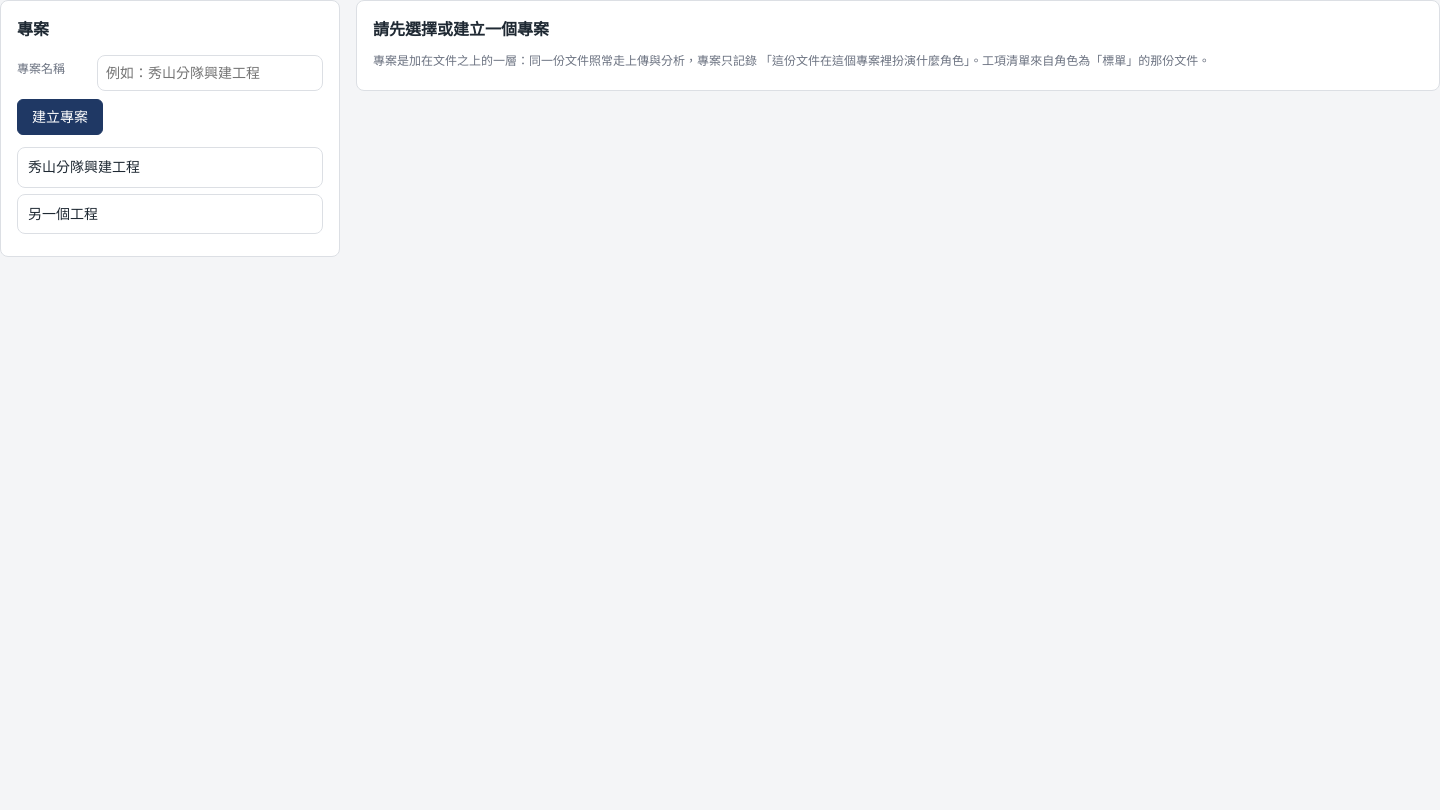
Test: ProjectWorkItemsPage › 規範書解析品質不佳的警告要顯示出來
Click the list item "秀山分隊興建工程".
click(170, 168)  # box [17,147,323,188]
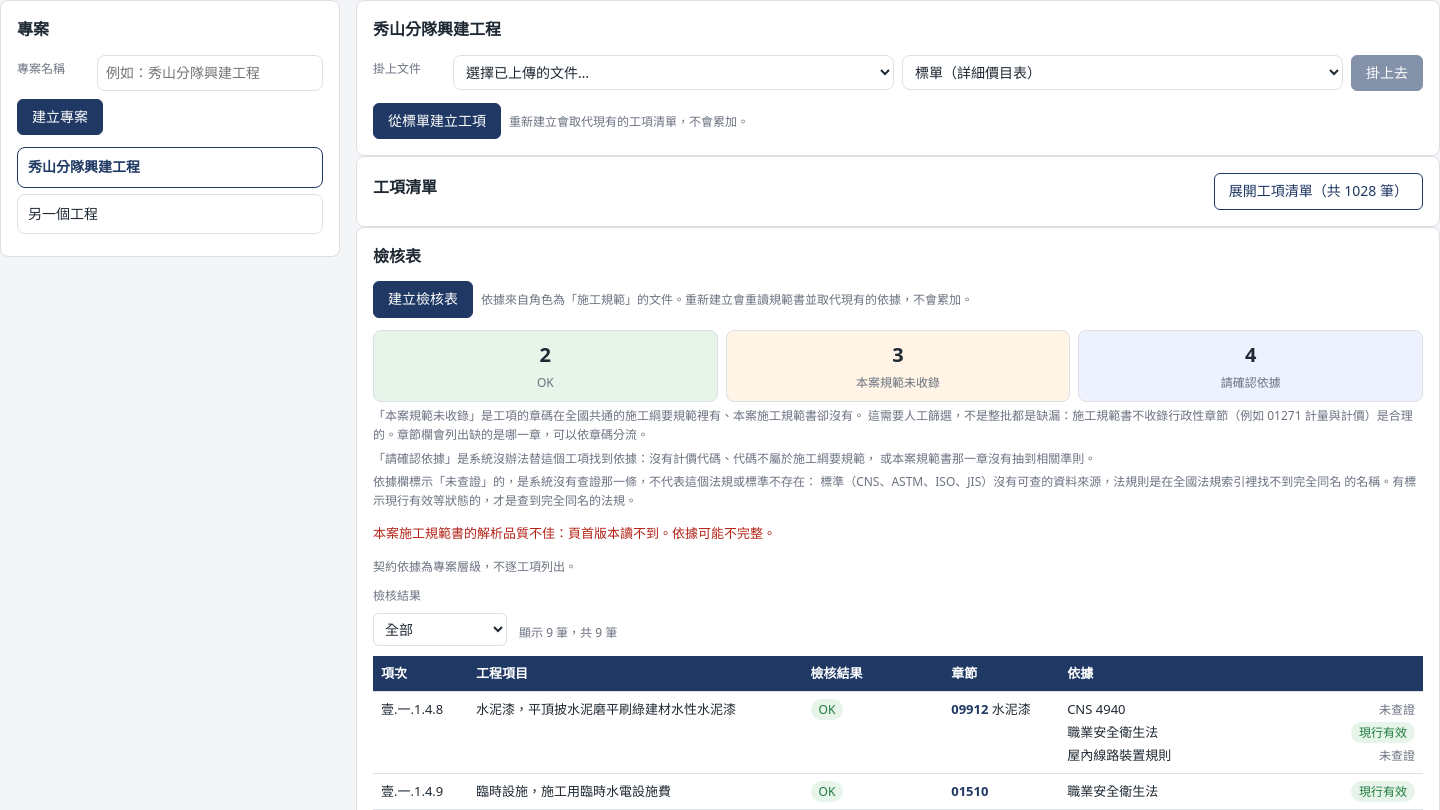
Expected: the text "本案施工規範書的解析品質不佳：頁首版本讀不到。依據可能不完整。" is shown, [373,524,776,542]
